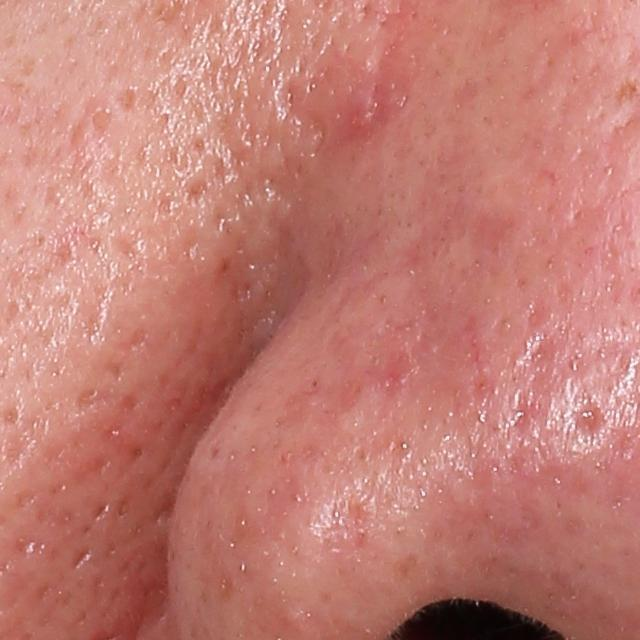atrophic_scar: (573, 393, 614, 446)
papule: (343, 85, 385, 140)
